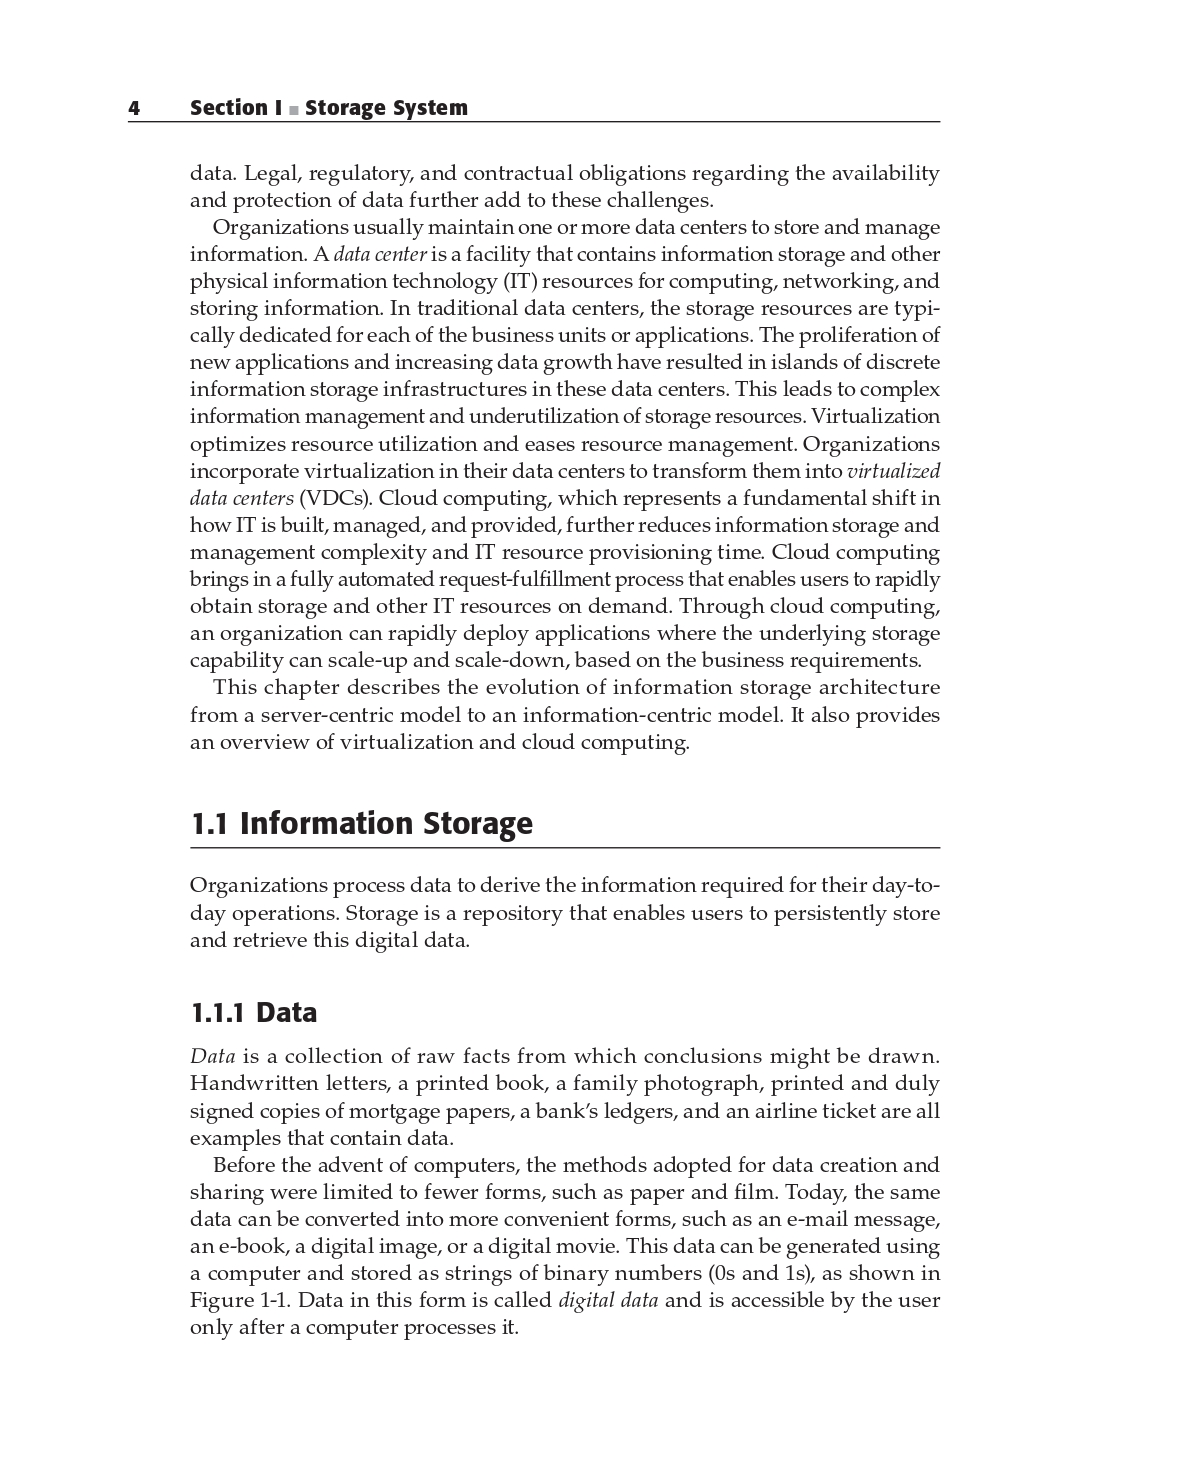Paragraph: (184, 216, 949, 675), (178, 1148, 958, 1357), (184, 1036, 958, 1150), (184, 678, 955, 754), (187, 870, 949, 947), (190, 155, 941, 213), (166, 800, 558, 844), (128, 79, 491, 122), (176, 982, 350, 1031)
